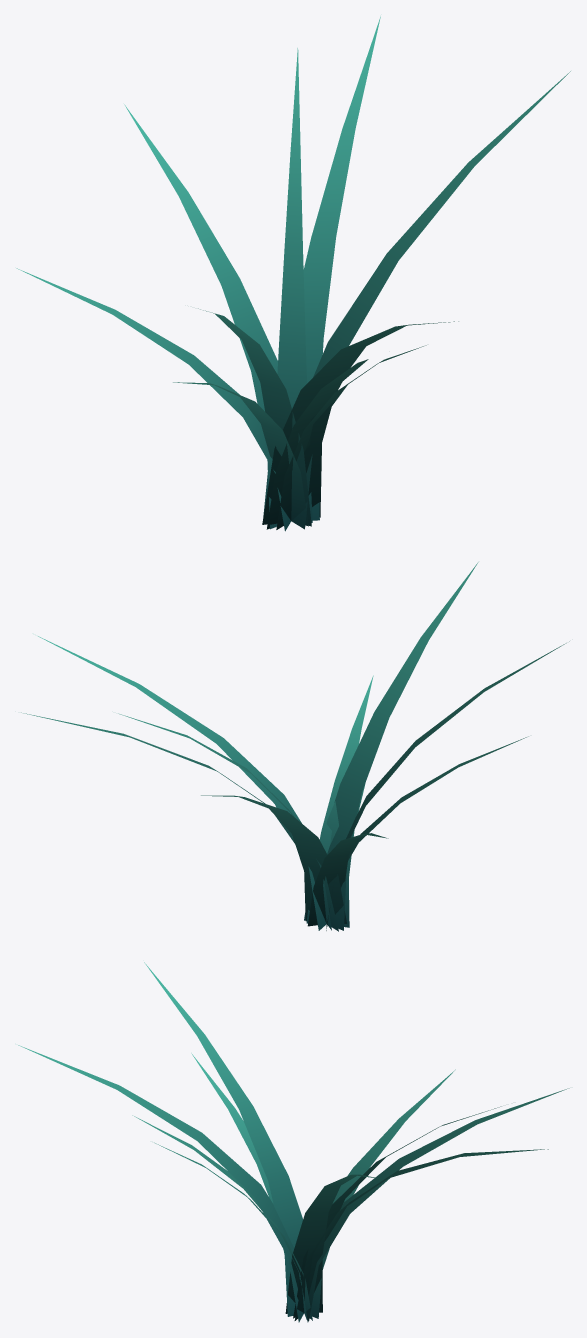
The model's file is blades_teal.glb.
3 views of the same model, one above another, from view 1: azimuth 30°, elevation 25°; view 2: azimuth 150°, elevation 25°; view 3: azimuth 270°, elevation 25° (orthographic). The views are drawn at different scales.
Parts seen in each view (by area): view 1: blades_teal; view 2: blades_teal; view 3: blades_teal.
Part boxes in pixels (bbox=[...]): blades_teal: bbox=[16, 16, 570, 531]; blades_teal: bbox=[21, 562, 569, 931]; blades_teal: bbox=[18, 962, 569, 1322].
Bounding box in the file's own units: 0.9334 × 0.5634 × 1.06.
